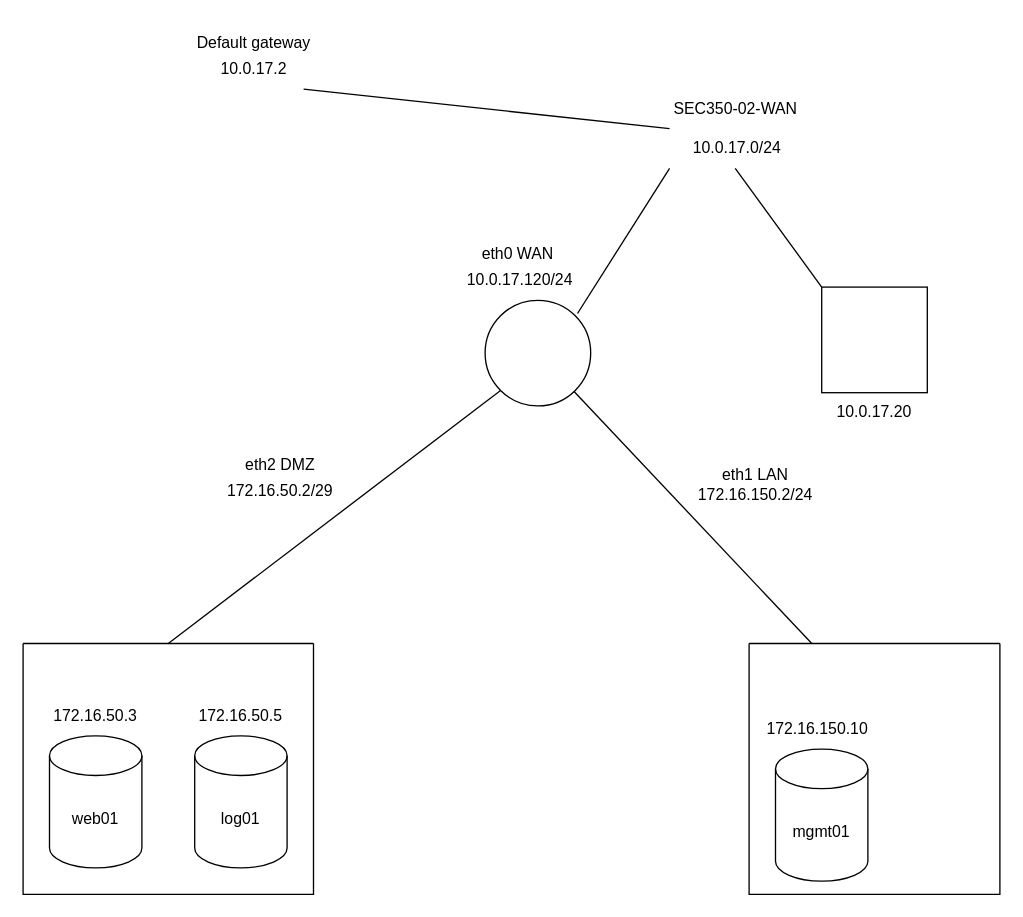
This 1023x917 diagram has some shape labels left out. The shapes that lost their labels are listed below. From the top down, each one's centre as x and y in pixels, then its label:
the point at 537,352: fw01
the point at 873,339: rw01
